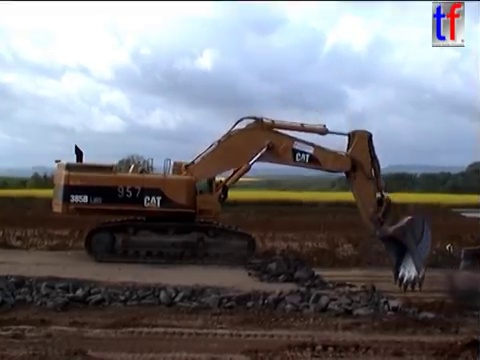excavator: (48, 113, 435, 294)
truck: (457, 245, 480, 273)
